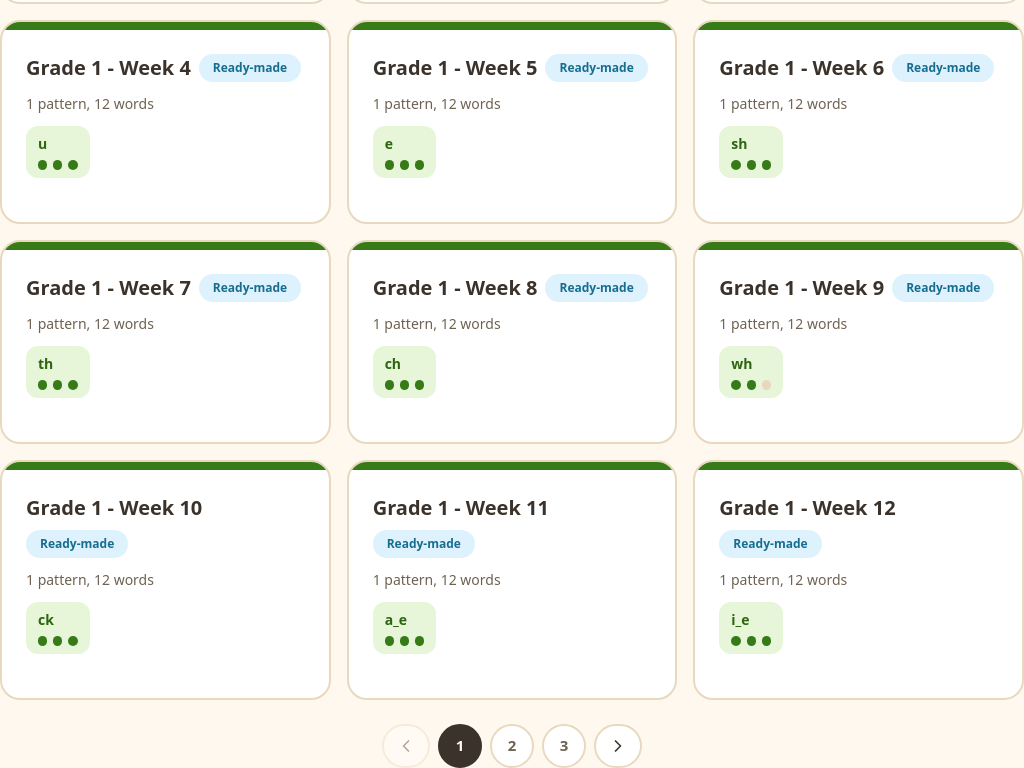
Test: PrebuiltLibrarySection › resets to page 1 when the search changes
(page scrolled)
Click the button named "Go to page 3" at (564, 746), box [542,724,586,767]
(page scrolled)
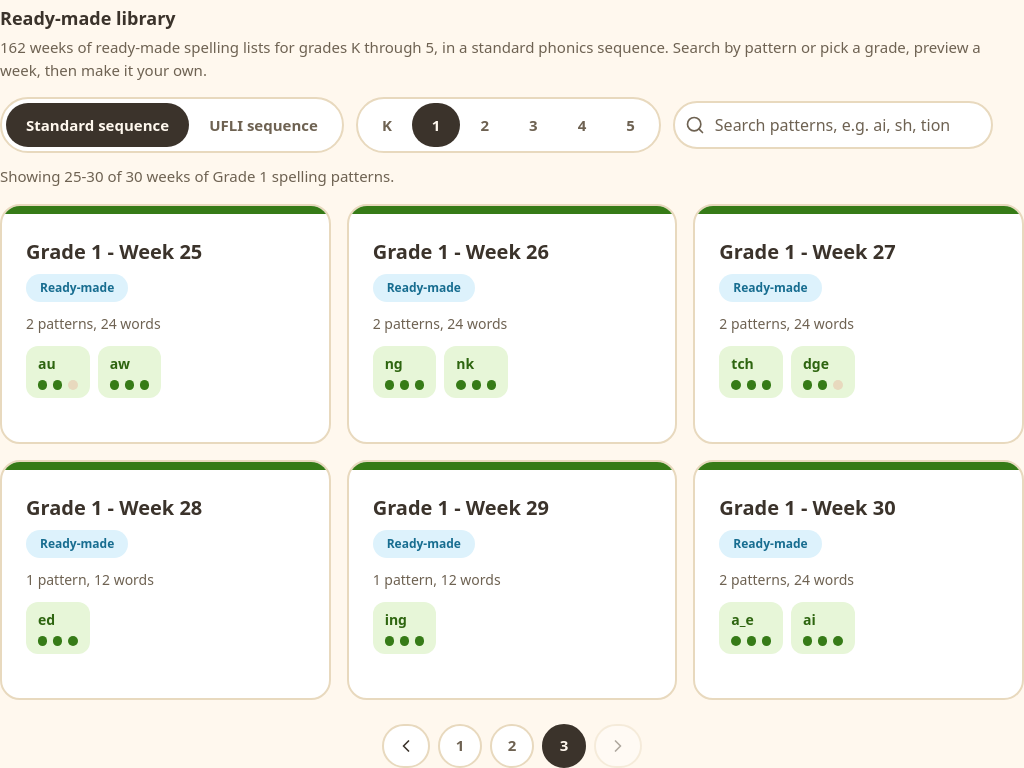
Type "tion" into the field named "Search ready-made lists by pattern" at (833, 125), box [673,101,993,149]
(page scrolled)
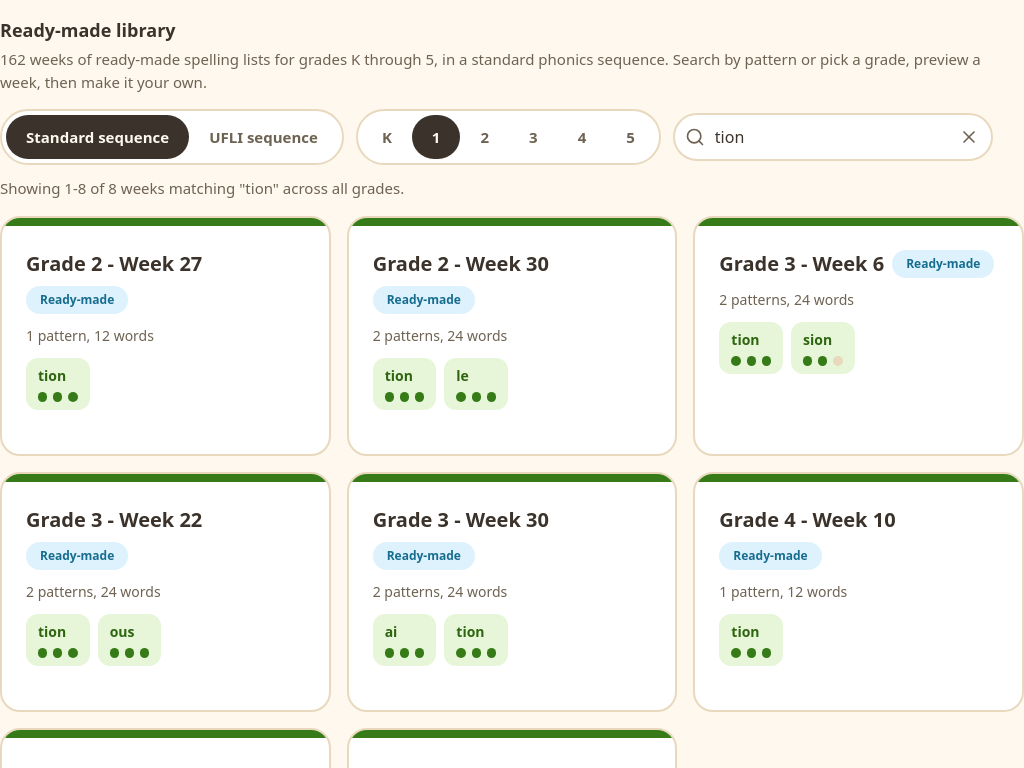
Check: the text "Showing 1-8 of 8 weeks matching \"tion\" across all grades." is shown, box [0,178,404,198]
Clear the field named "Search ready-made lists by pattern" at (833, 137), box [673,113,993,161]
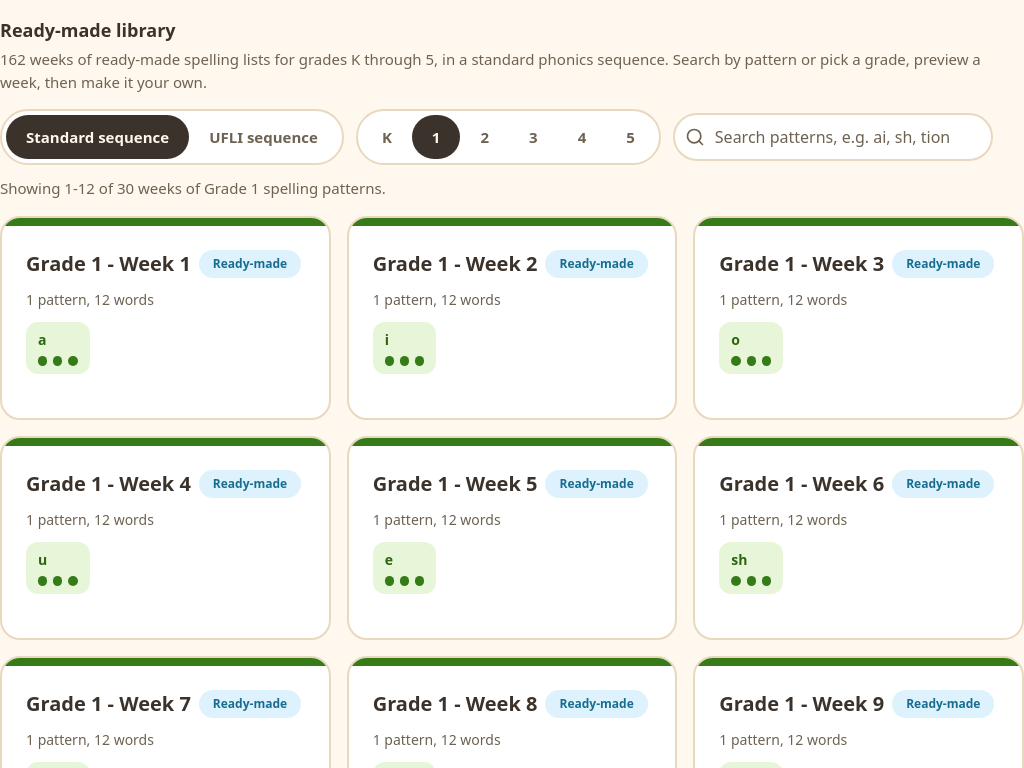
Check: the text "Showing 1-12 of 30 weeks of Grade 1 spelling patterns." is shown, box [0,178,386,198]
